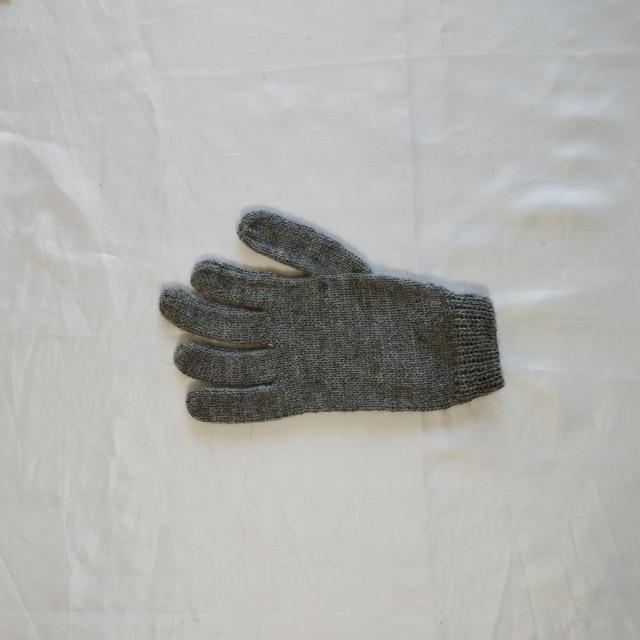Guante: (158, 206, 506, 425)
